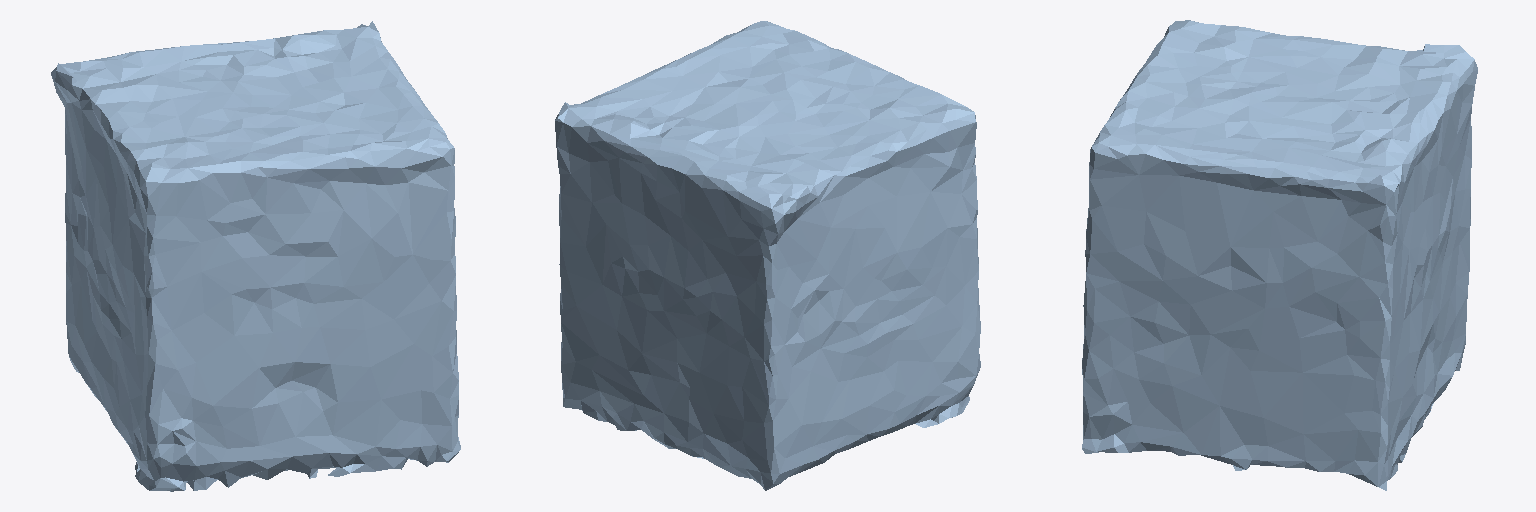
robot.urdf — largebox.urdf:
<?xml version="1.0" ?>
<robot name="largebox.urdf">
  <dynamics damping="0.5" friction="0.9"/>
  <link name="baseLink">
    <contact>
      <lateral_friction value="0.9"/>
      <rolling_friction value="0.5"/>
      <stiffness value="30000"/>
      <damping value="1000"/>
    </contact>
    <visual>
      <origin rpy="0 0 0" xyz="0 0 0"/>
      <geometry>
        <mesh filename="meshes/largebox/largebox.obj" scale="1.0 1.0 1.0"/>
      </geometry>
       <material name="mat">
        <color rgba="0.7 0.8 0.9 1"/>
      </material>
    </visual>
    <collision>
      <origin rpy="0 0 0" xyz="0 0 0"/>
      <geometry>
	 	<mesh filename="meshes/largebox/largebox.obj" scale="1.0 1.0 1.0"/>
      </geometry>
    </collision>
  </link>
</robot>

--- Render facts (derived) ---
3 views of the same robot in one strip: view 1: azimuth 30°, elevation 25°; view 2: azimuth 150°, elevation 25°; view 3: azimuth 270°, elevation 25° (orthographic).
Model largebox.urdf with 1 links and 0 joints (none), rooted at baseLink, posed every joint at zero.
Links seen in each view (by area): view 1: baseLink; view 2: baseLink; view 3: baseLink.
Link boxes in pixels (x1,y1,x2,y2): baseLink: [51, 21, 460, 491]; baseLink: [555, 21, 980, 490]; baseLink: [1082, 20, 1477, 490].
Bounding box of the posed robot: 0.3898 × 0.3985 × 0.3584 m (x, y, z).
Meshes: 1 distinct files referenced, 1 mesh visuals loaded (1 OBJ).
